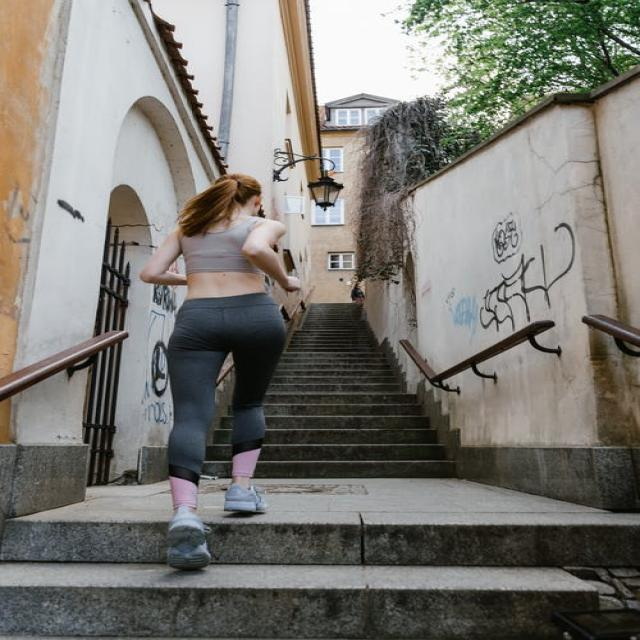running: (134, 172, 306, 570)
